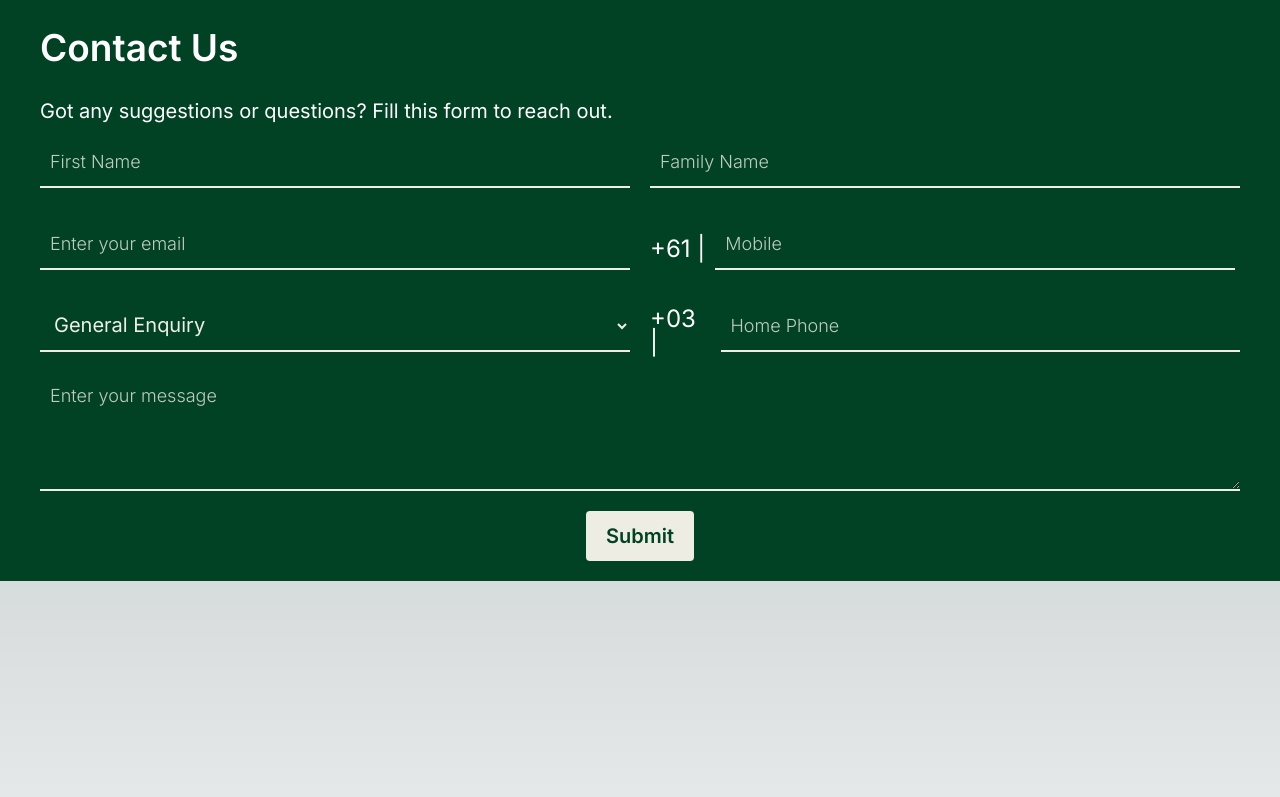
Scenario: ContactForm Component › shows feedback fields when Feedback & Compliments is selected
Note: Change the Enquiry Type to Feedback
Select "Feedback & Compliments" in the dropdown named "Enquiry Type". click: {"x": 335, "y": 326}
box: [40,300,630,352]
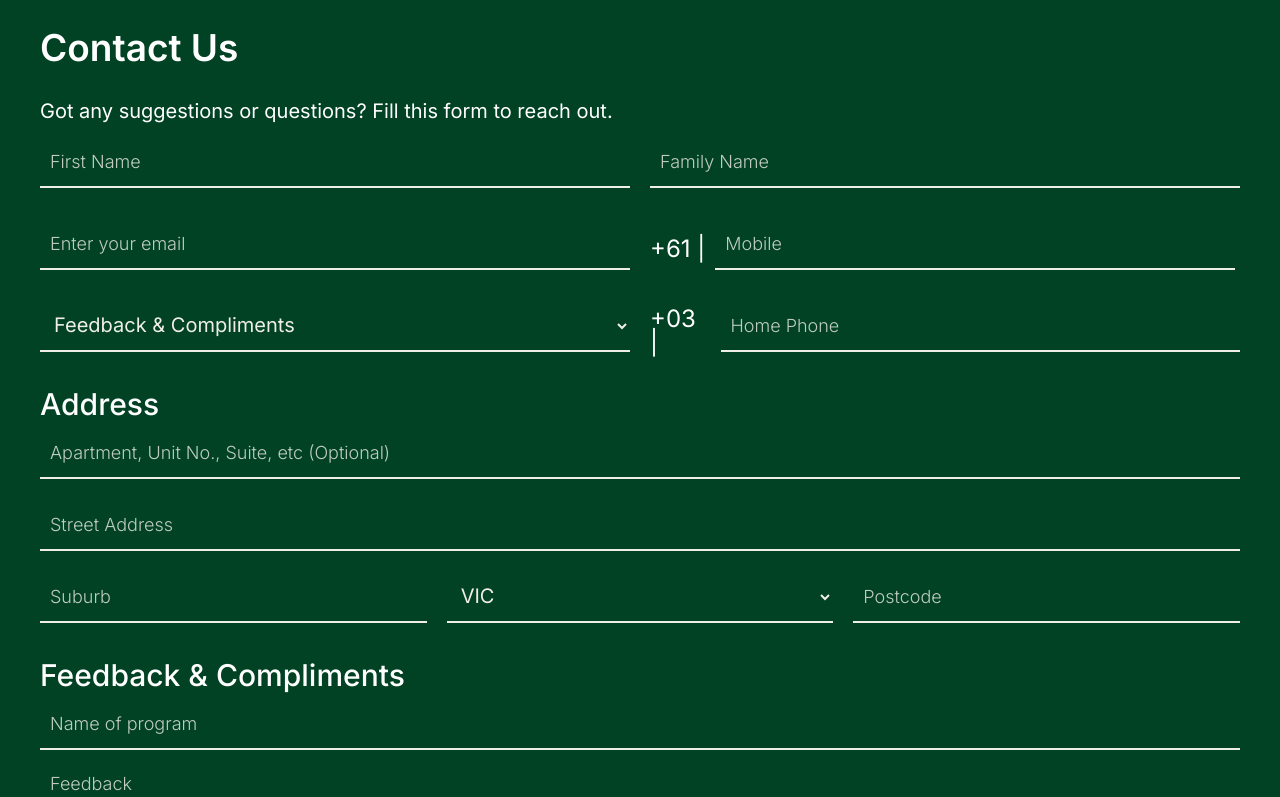
Result: the field with placeholder "Name of program" is shown at [40,698,1240,750]
Result: the heading "Address" is shown at [40,386,159,422]
